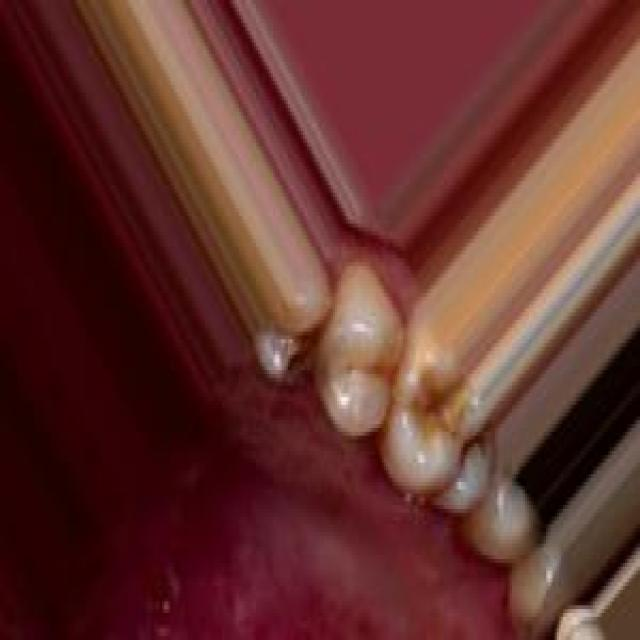caries: (402, 356, 471, 464)
